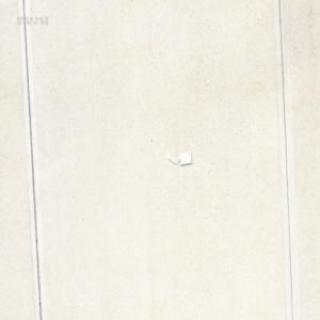LuggageTagtrack_idkeyframe: (164, 149, 192, 167)
